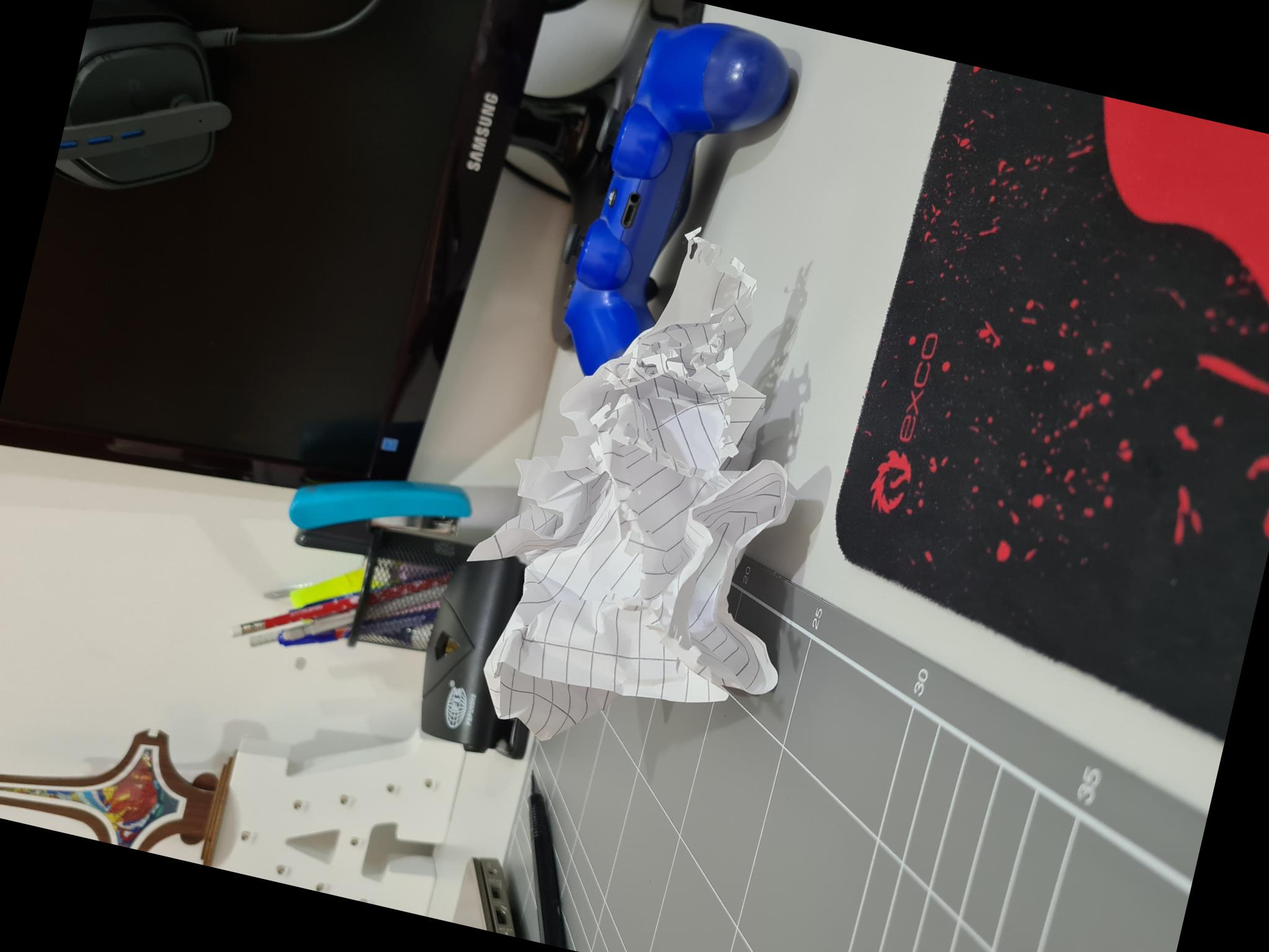Kertas: (186, 446, 614, 752)
